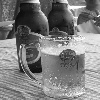beer: (18, 31, 91, 100)
